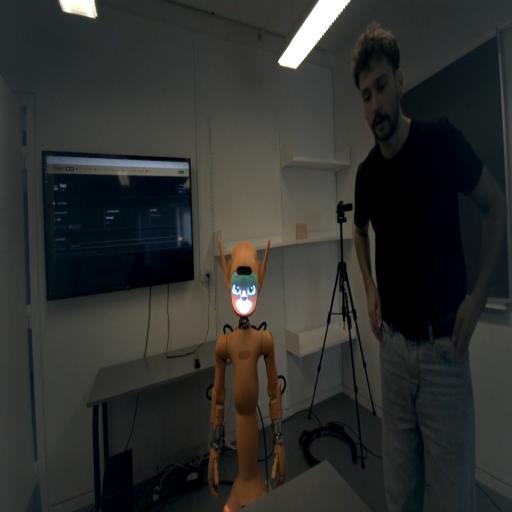Robot: (218, 237, 270, 320)
TV: (46, 161, 190, 278)
